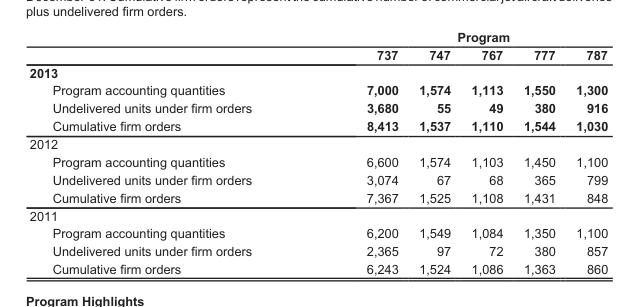table: (28, 29, 607, 275)
table column: (28, 29, 308, 275), (308, 29, 408, 275), (512, 29, 565, 275), (408, 29, 460, 275), (460, 29, 512, 275), (565, 29, 607, 275)
table column header: (28, 29, 607, 63)
table projected row header: (28, 63, 607, 81), (28, 134, 607, 152), (28, 206, 607, 224)
table row: (28, 45, 607, 63), (28, 63, 607, 81), (28, 98, 607, 116), (28, 116, 607, 134), (28, 134, 607, 152), (28, 152, 607, 170), (28, 170, 607, 188), (28, 188, 607, 206), (28, 206, 607, 224), (28, 241, 607, 259), (28, 81, 607, 98), (28, 224, 607, 241), (28, 29, 607, 45), (28, 259, 607, 275)
table spanning cell: (308, 29, 607, 45)
